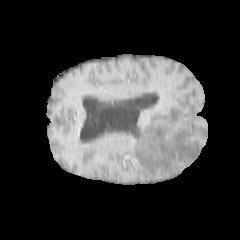glioma: (131, 109, 200, 177)
